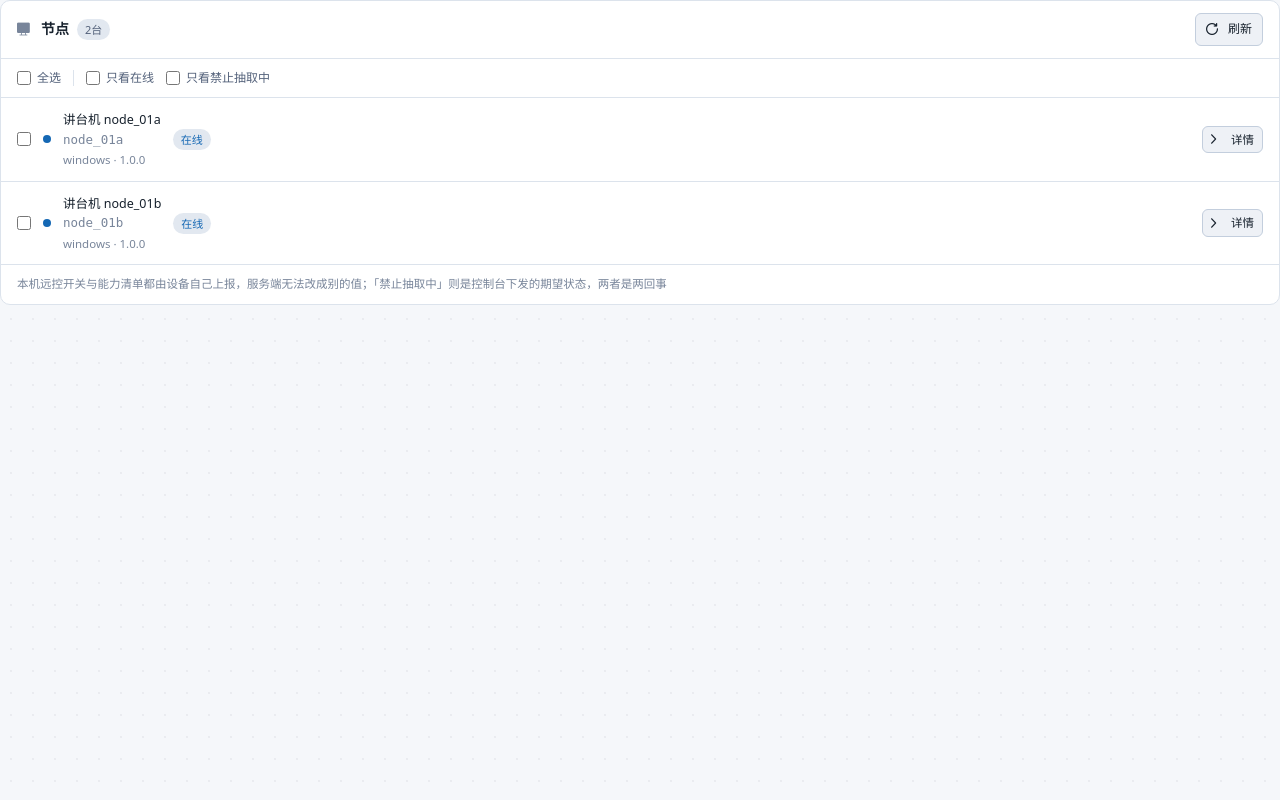
it: NodeListPanel 的「统一配置」入口 › 勾选的机器都没声明 capabilities 时按钮不可用，并在悬停说明里给出原因
Click the checkbox below "讲台机 node_01a".
click(24, 140)  # box [17,132,31,146]
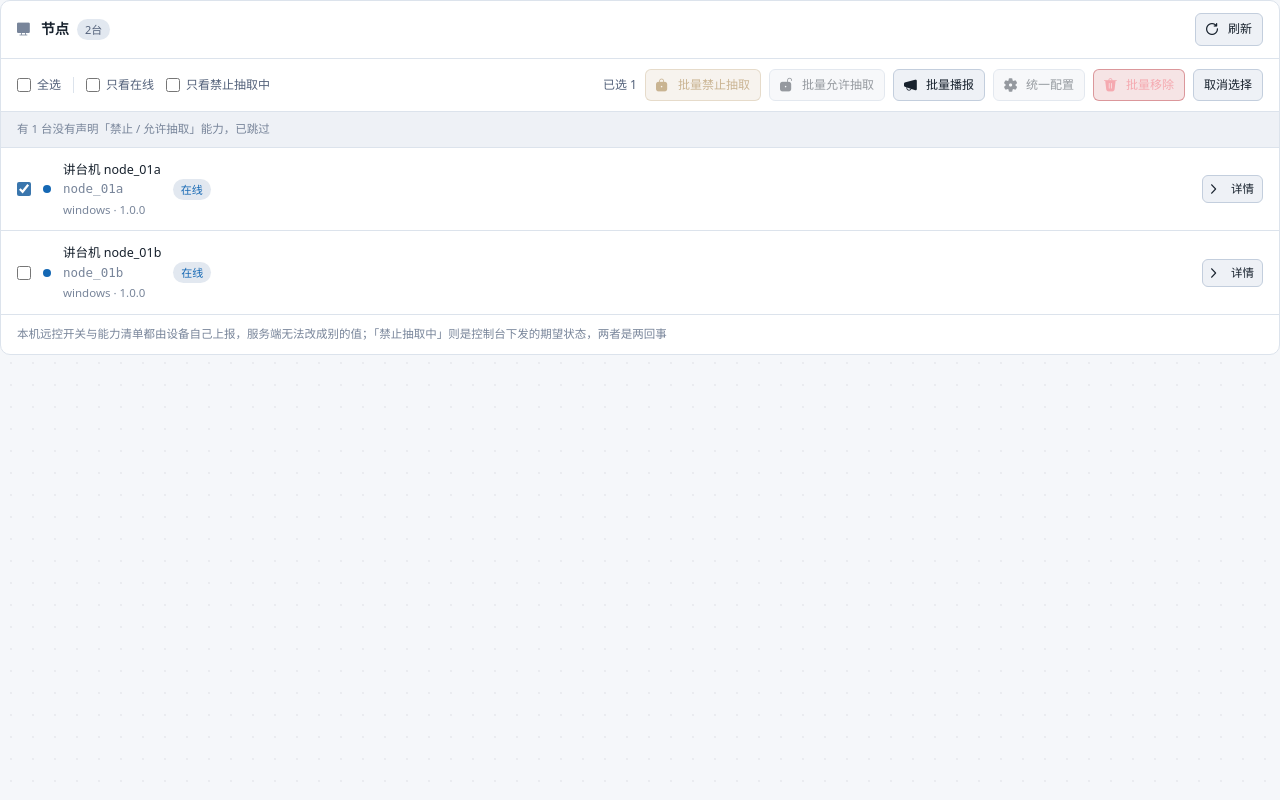
Now the button with test id "nodes-batch-config" is disabled, box [993,69,1085,101]
